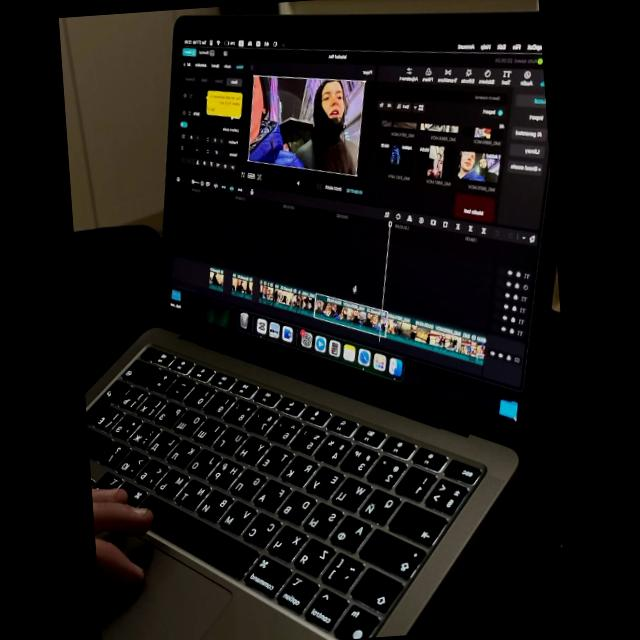laptop: (62, 14, 569, 636)
